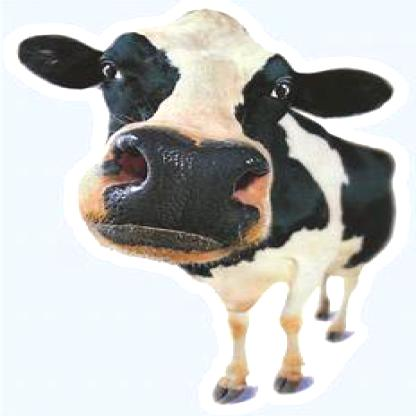cow: (16, 9, 400, 404)
